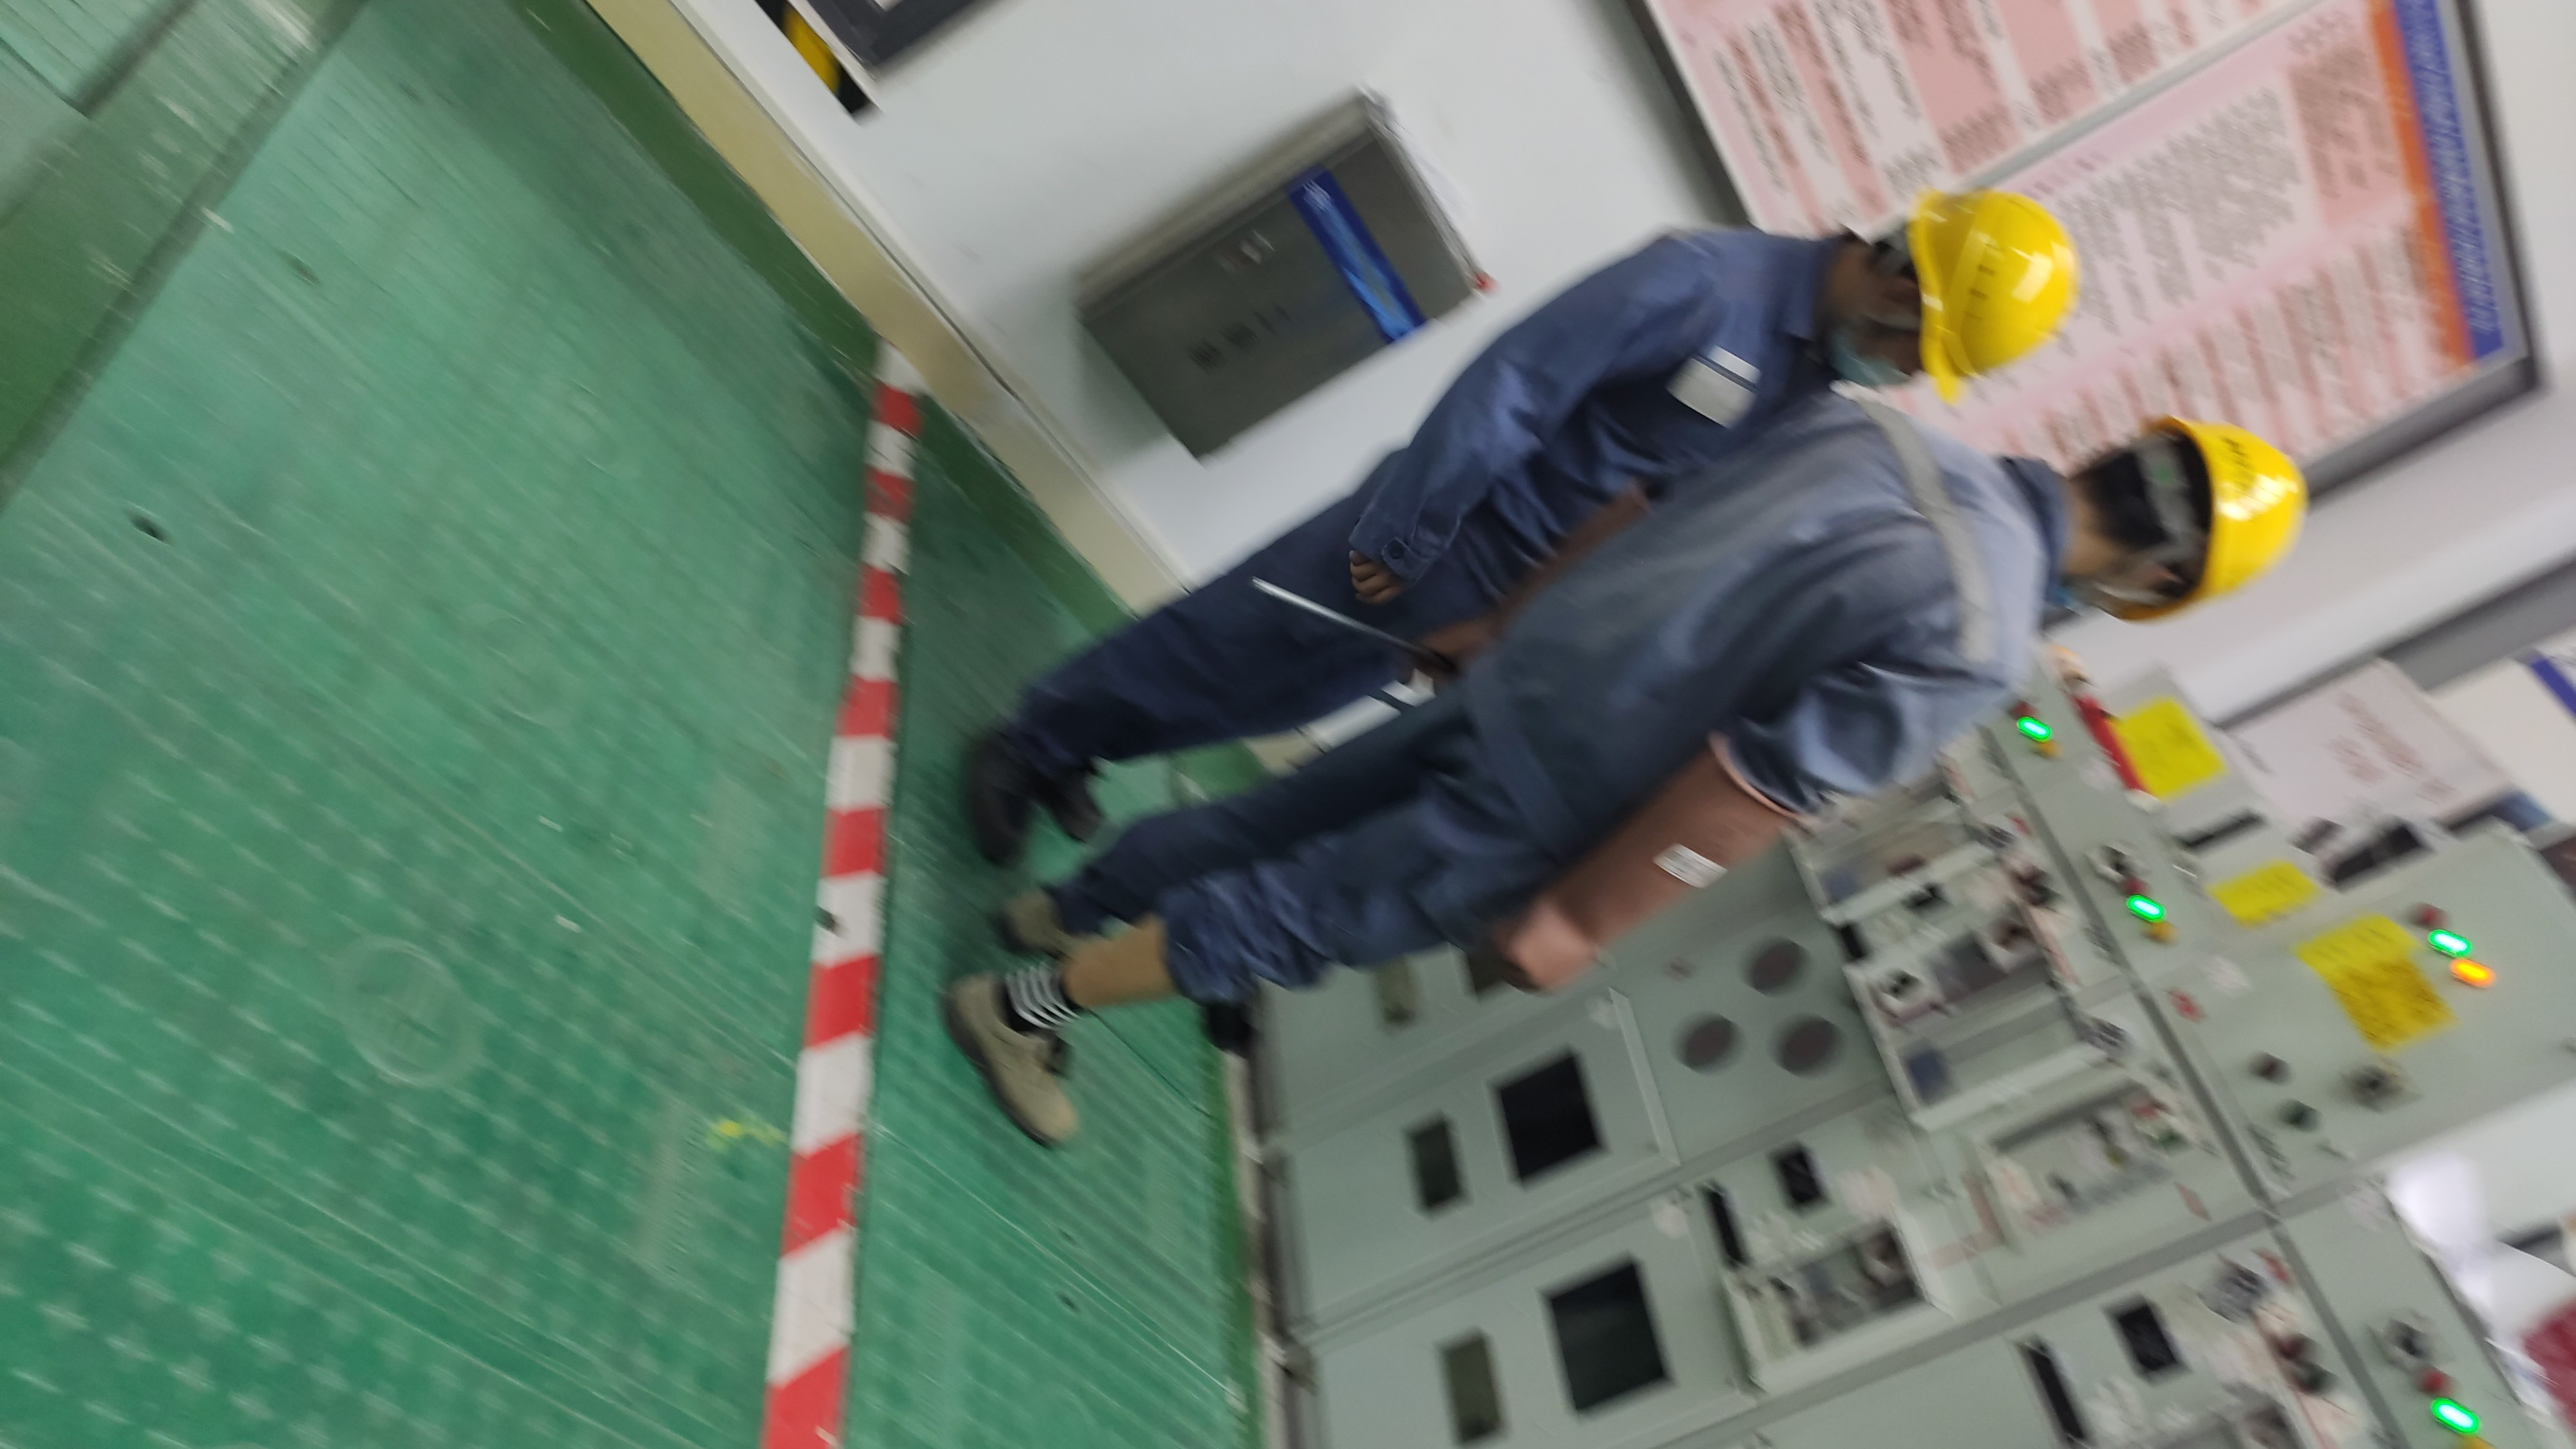downsuit: (1016, 488, 1430, 789)
upsuit: (1467, 418, 2031, 814), (1384, 225, 1822, 566)
wrongbottom: (1065, 890, 1246, 1005)
